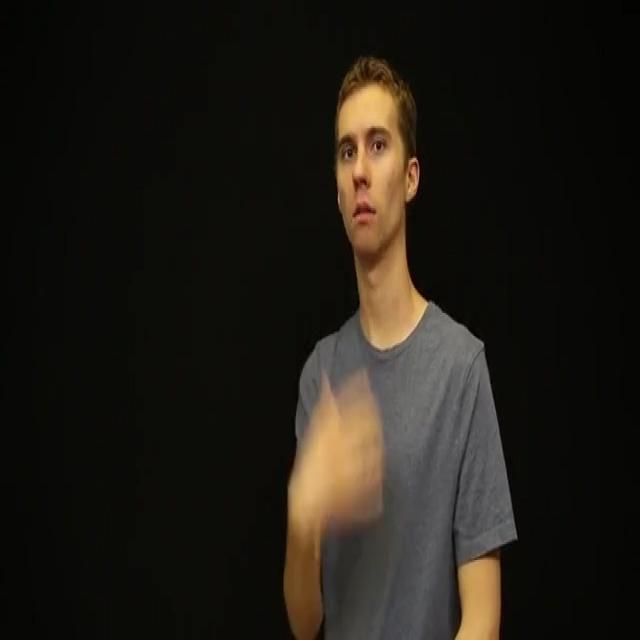spicy: (287, 368, 390, 531)
